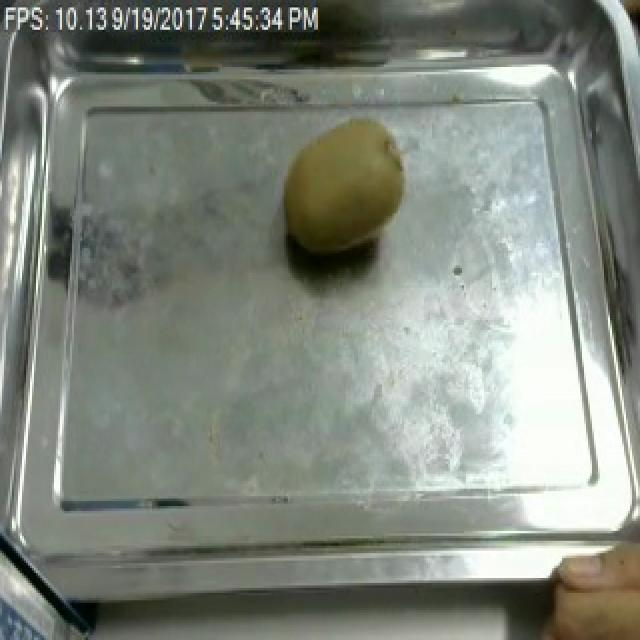Fruit: (274, 109, 418, 268), (530, 528, 640, 640)
